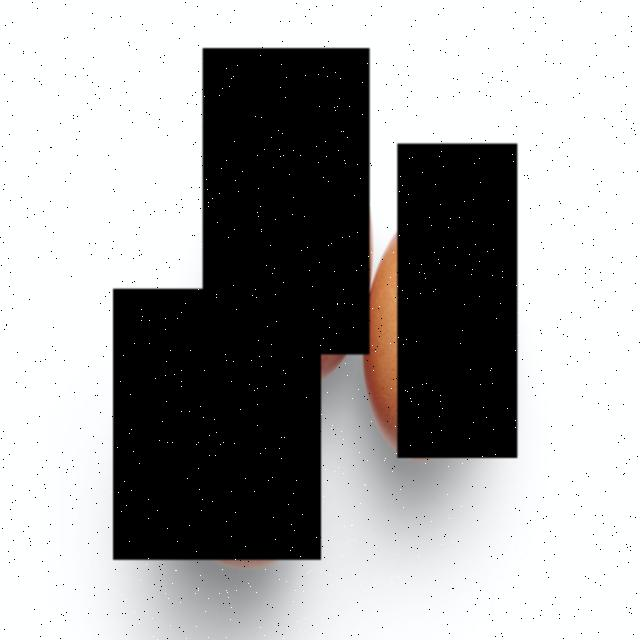Egg: (113, 289, 321, 560), (202, 48, 370, 354), (398, 144, 518, 458)
